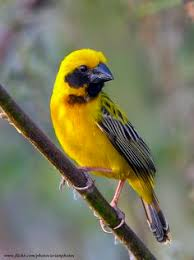target: (47, 40, 174, 248)
